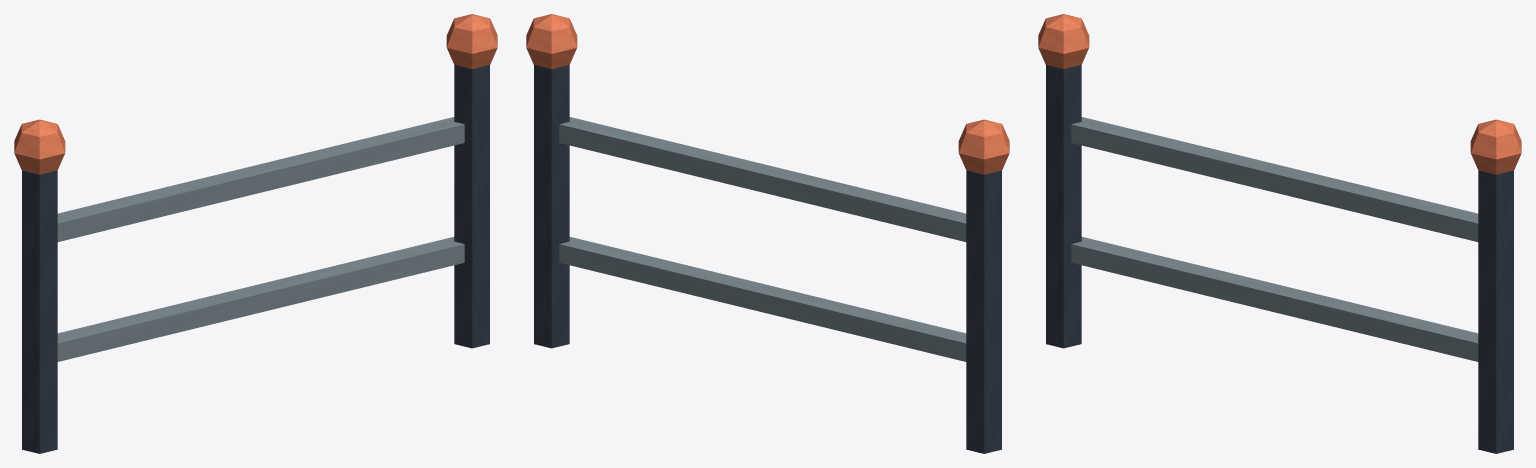
The model's file is atlas100-basalt-util04.glb.
3 views of the same model, side by side, from view 1: azimuth 30°, elevation 25°; view 2: azimuth 150°, elevation 25°; view 3: azimuth 330°, elevation 25° (orthographic).
Parts seen in each view (by area): view 1: atlas100-basalt-util04:part-004, atlas100-basalt-util04:part-005, atlas100-basalt-util04:part-000, atlas100-basalt-util04:part-002, atlas100-basalt-util04:part-001, atlas100-basalt-util04:part-003; view 2: atlas100-basalt-util04:part-004, atlas100-basalt-util04:part-005, atlas100-basalt-util04:part-000, atlas100-basalt-util04:part-002, atlas100-basalt-util04:part-001, atlas100-basalt-util04:part-003; view 3: atlas100-basalt-util04:part-004, atlas100-basalt-util04:part-005, atlas100-basalt-util04:part-002, atlas100-basalt-util04:part-000, atlas100-basalt-util04:part-003, atlas100-basalt-util04:part-001.
Part boxes in pixels (x1,y1,x2,y2): atlas100-basalt-util04:part-004: (57, 237, 464, 361); atlas100-basalt-util04:part-005: (57, 117, 464, 241); atlas100-basalt-util04:part-000: (22, 170, 57, 453); atlas100-basalt-util04:part-002: (454, 65, 489, 348); atlas100-basalt-util04:part-001: (14, 119, 65, 174); atlas100-basalt-util04:part-003: (446, 14, 497, 68); atlas100-basalt-util04:part-004: (559, 237, 966, 361); atlas100-basalt-util04:part-005: (559, 117, 966, 241); atlas100-basalt-util04:part-000: (966, 170, 1001, 453); atlas100-basalt-util04:part-002: (534, 65, 569, 348); atlas100-basalt-util04:part-001: (958, 119, 1009, 174); atlas100-basalt-util04:part-003: (526, 14, 577, 68); atlas100-basalt-util04:part-004: (1071, 237, 1478, 361); atlas100-basalt-util04:part-005: (1071, 117, 1478, 241); atlas100-basalt-util04:part-002: (1478, 170, 1513, 453); atlas100-basalt-util04:part-000: (1046, 65, 1081, 348); atlas100-basalt-util04:part-003: (1470, 119, 1521, 174); atlas100-basalt-util04:part-001: (1038, 14, 1089, 68).
Size of the model in its own units: 2.07 by 1.33 by 0.1891.
3 materials, 3 textured.
